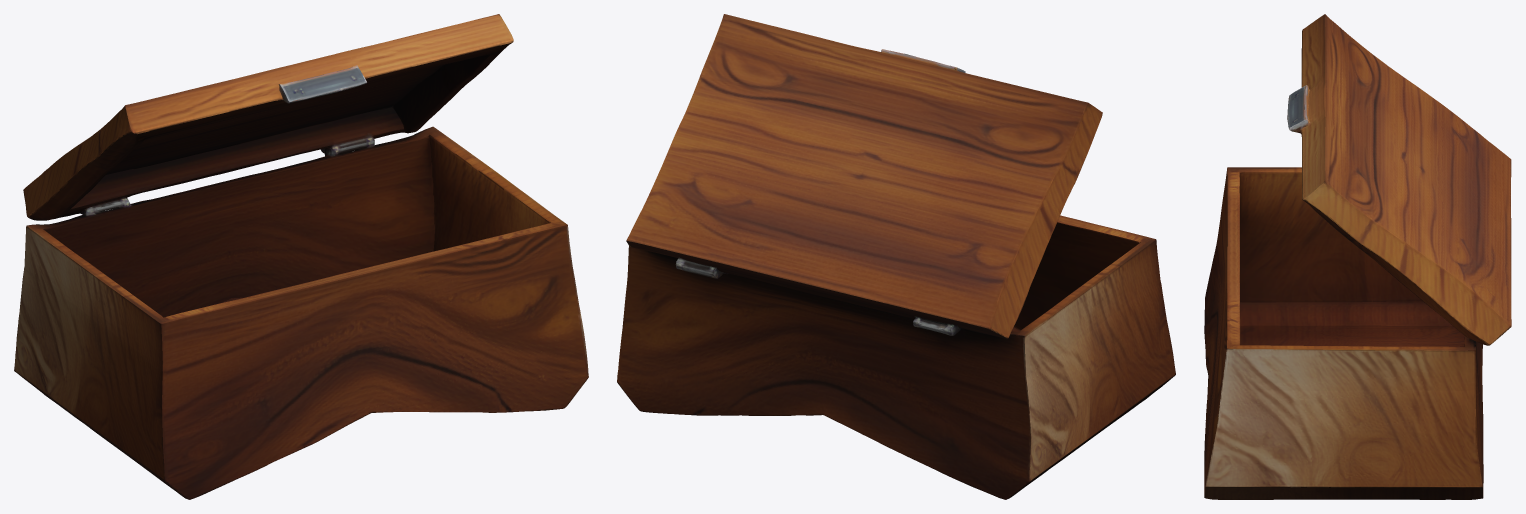
Rendered from wooden-storage-box-futuristic.jpeg.glb.
The picture shows the model from 3 angles, left to right: view 1: azimuth 30°, elevation 25°; view 2: azimuth 150°, elevation 25°; view 3: azimuth 270°, elevation 25°; orthographic projection. The views are drawn at different scales.
Parts seen in each view (by area): view 1: world; view 2: world; view 3: world.
Part boxes in pixels (x1,y1,x2,y2): world: [14, 14, 588, 499]; world: [617, 14, 1175, 499]; world: [1204, 14, 1511, 499].
Bounding box in the file's own units: 1 × 0.7839 × 0.6851.
1 material, 1 textured.
